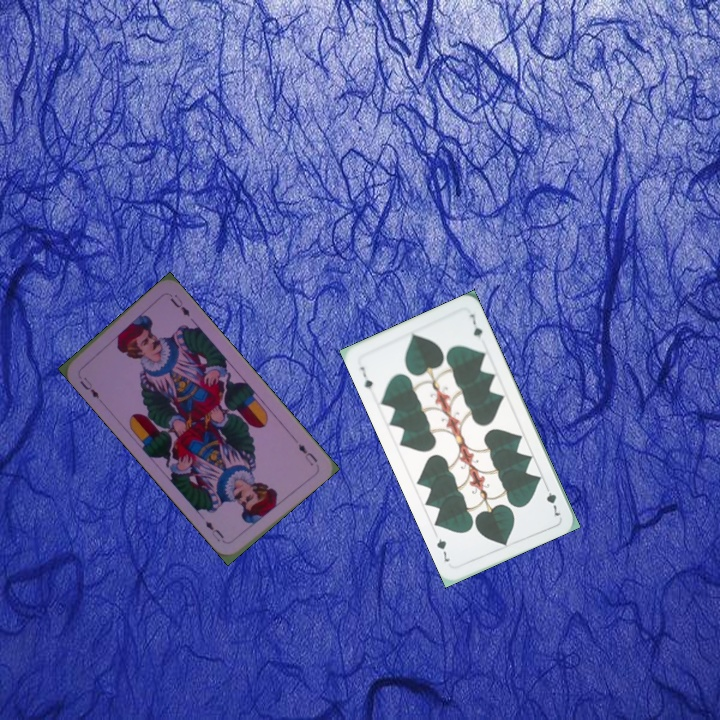EU: (76, 373, 102, 402), (294, 440, 320, 468)
G7: (541, 480, 563, 519), (356, 363, 375, 392)
